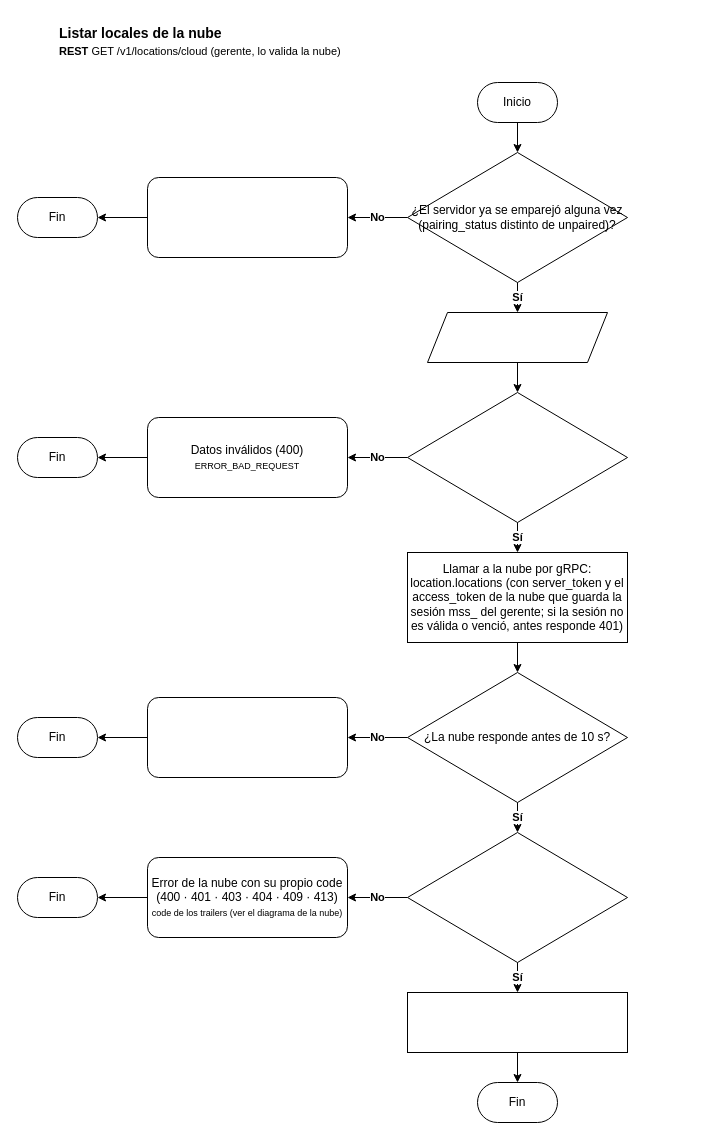
The diagram is 715 pixels wide and 1140 high, and some of its shapes have lost their labels. Each missing label, with the centre of its shape:
La nube no responde (503) ERROR_CLOUD_UNAVAILABLE · ERROR_SERVER_UNLINKED: (x=247, y=737)
Recibir datos: (x=517, y=337)
Responder 200: (x=517, y=1022)
Servidor sin emparejar (409) ERROR_SERVER_NOT_PAIRED: (x=247, y=217)
¿La nube acepta la petición?: (x=517, y=897)
¿Los datos son válidos?: (x=517, y=457)
